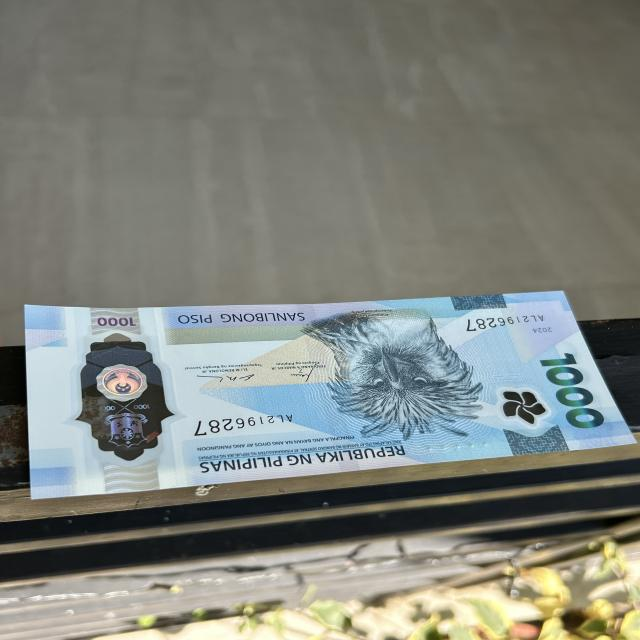clear_window: (66, 331, 172, 464)
eagle: (324, 314, 479, 424)
sampaguita: (496, 388, 548, 423)
serial_number: (185, 404, 309, 434)
